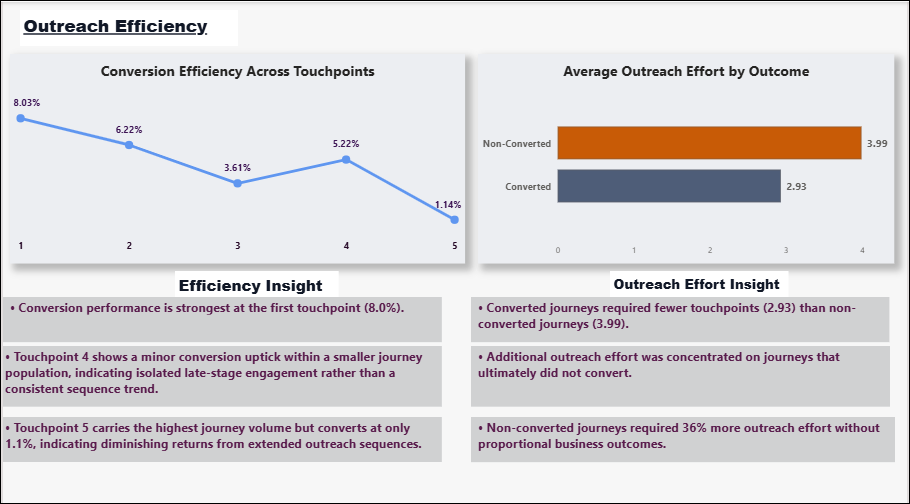

The page's visual inventory and layout, read from the dashboard file:
{"tool":"powerbi","page":{"name":"Page 3","canvas":[1280,720],"ordinal":2},"visuals":[{"type":"textbox","box":[24.1,11.3,309,51],"z":0},{"type":"lineChart","title":"Conversion Efficiency Across Touchpoints","fields":{"Y":["Measuress.Conversion Rate"],"Category":["outbound_funnel_analysis analytical_master.Journey Touchpoints"]},"box":[10.1,73.4,645.1,296.6],"z":1000},{"type":"textbox","box":[243.8,381.2,232.4,41.1],"z":2000},{"type":"shape","box":[0,418.1,622.2,64],"z":3000},{"type":"shape","box":[0,487.6,622.2,86.5],"z":4000},{"type":"shape","box":[0,588.2,622.2,63.8],"z":5000},{"type":"clusteredBarChart","title":"Average Outreach Effort by Outcome","fields":{"Category":["Touchpoint_Efficiency.Outcome"],"Y":["Sum(Touchpoint_Efficiency.Avg Touchpoints)"]},"box":[673.9,73.4,590.4,296.6],"z":6000},{"type":"textbox","box":[859.7,381.6,253.4,40.3],"z":7000},{"type":"shape","box":[663.8,418.3,593,64],"z":8000},{"type":"shape","box":[663.3,487.6,593.9,86.5],"z":9000},{"type":"shape","box":[663.3,588.2,600.9,64],"z":10000}]}

Visuals, with their boxes in screenshot pixels (x1, y1, x2, y2), scaled from the page's 1280x720 canvas onto the 910x504 screenshot:
textbox: 17,8,237,44
"Conversion Efficiency Across Touchpoints" lineChart: 7,51,466,259
textbox: 173,267,339,296
shape: 0,293,442,337
shape: 0,341,442,402
shape: 0,412,442,456
"Average Outreach Effort by Outcome" clusteredBarChart: 479,51,899,259
textbox: 611,267,791,295
shape: 472,293,894,338
shape: 472,341,894,402
shape: 472,412,899,457
